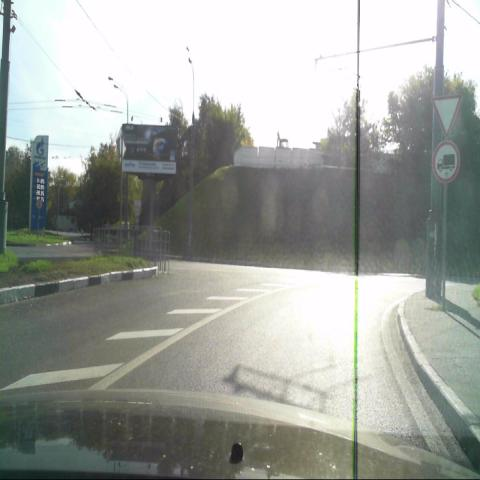3_4_1: (434, 139, 460, 184)
